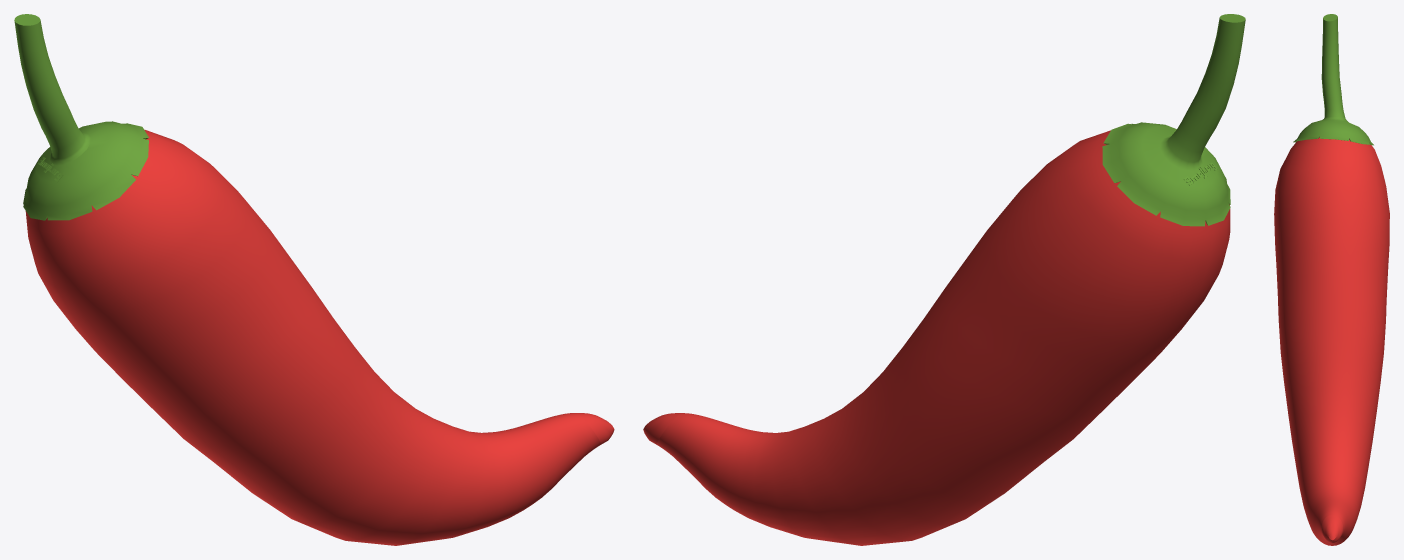
Rendered from hot_pepper.fbx.
3 renders of one model, left to right at view 1: azimuth 30°, elevation 25°; view 2: azimuth 150°, elevation 25°; view 3: azimuth 270°, elevation 25°, orthographic. The views are drawn at different scales.
Visible parts, largest first — view 1: Circle.2198; view 2: Circle.2198; view 3: Circle.2198.
Part boxes in pixels (box(x1,y1,x2,y2)): Circle.2198: box(14, 14, 614, 545); Circle.2198: box(643, 14, 1245, 545); Circle.2198: box(1274, 14, 1389, 545).
Size of the model in its own units: 212 by 209 by 56.91.
1 material, 1 textured.
